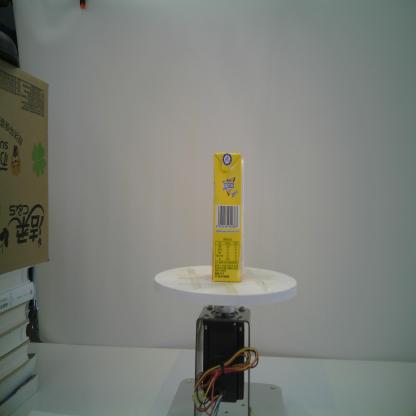Drink: (211, 151, 246, 283)
